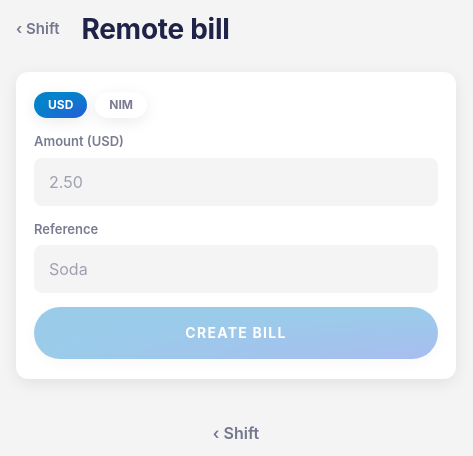
shows the bill link on screen after issuing it, and lets the vendor copy it
Type "5.00" into the field labelled "Amount (USD)" at (236, 182), box x1=34 y1=158 x2=438 y2=206
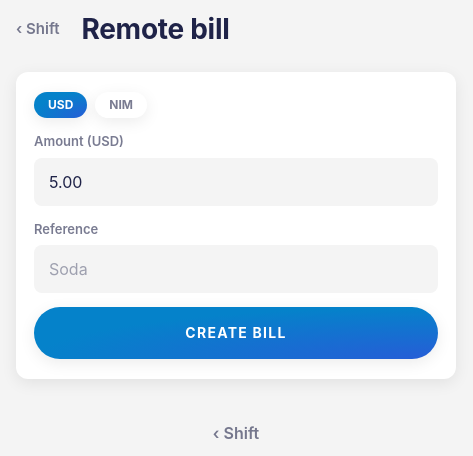
Click the button "Create bill" at (236, 333), box x1=34 y1=307 x2=438 y2=359
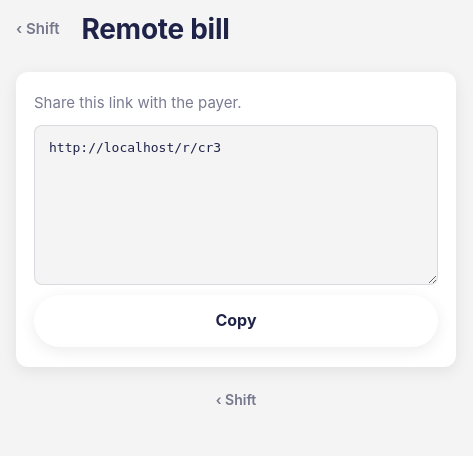
Expected: the text box is shown, x1=34 y1=124 x2=438 y2=284
Click the button with aria-label "Copy the link" at (236, 320), box x1=34 y1=294 x2=438 y2=346
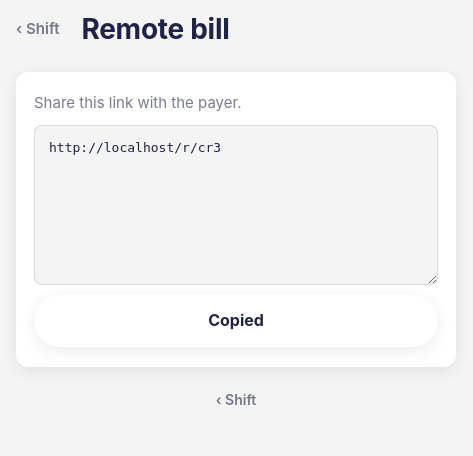
Expected: the button "Copied" is shown, x1=34 y1=294 x2=438 y2=346
